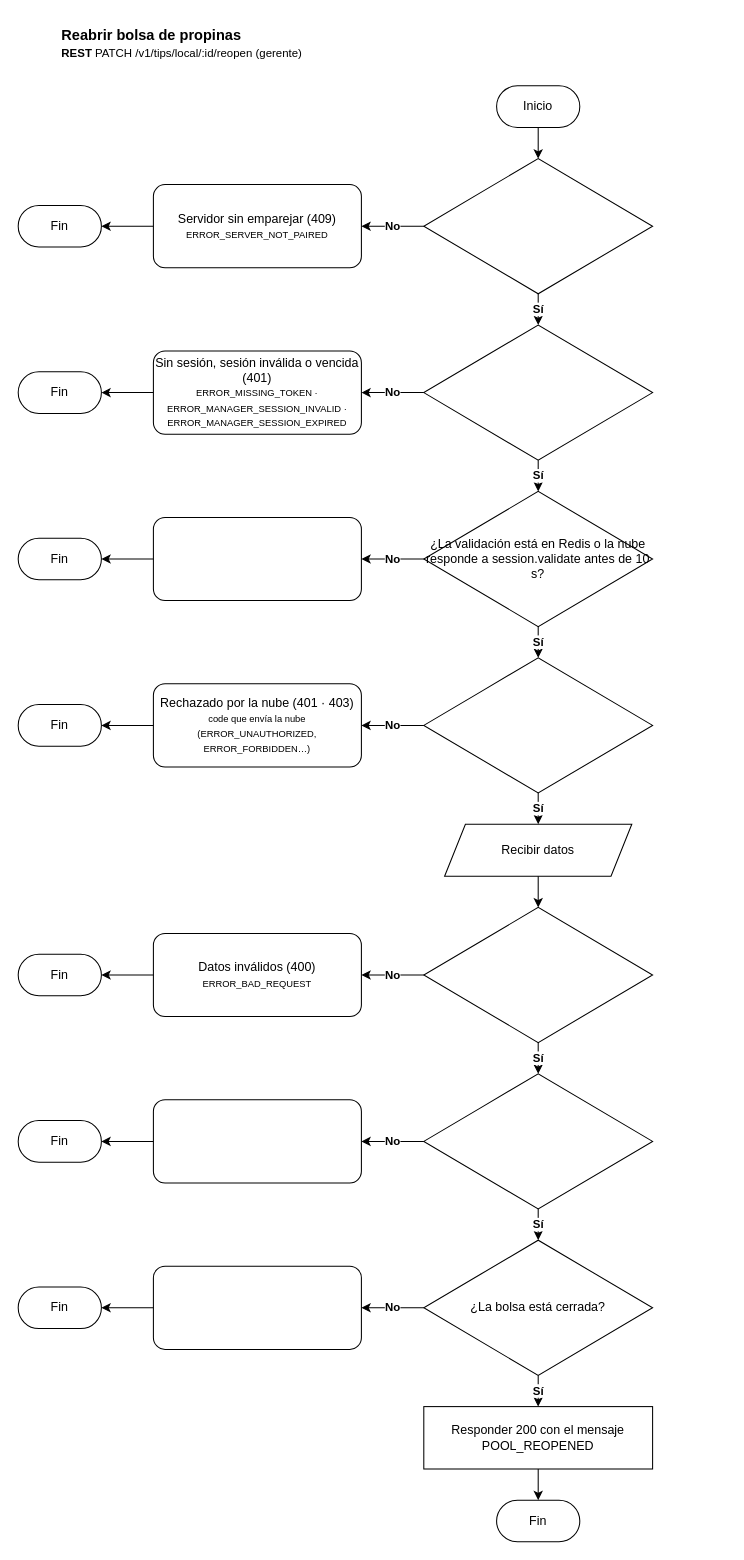
The diagram is 744 pixels wide and 1560 high, and some of its shapes have lost their labels. The centre of each missing label's shape, as x and y in pixels:
La bolsa de propinas no está cerrada (409) ERROR_TIP_POOL_NOT_CLOSED: pixel 256 1307
La nube no responde (503) ERROR_CLOUD_UNAVAILABLE · ERROR_SERVER_UNLINKED: pixel 256 558
No se encontró la bolsa de propinas (404) ERROR_TIP_POOL_NOT_FOUND: pixel 256 1141
¿El servidor ya se emparejó alguna vez (pairing_status distinto de unpaired)?: pixel 538 226
¿Existe la bolsa de propinas?: pixel 538 1141
¿La nube acepta la sesión del gerente con este servidor?: pixel 538 725
¿Los datos son válidos?: pixel 538 974
¿Trae una sesión de gerente válida (Bearer mss_..., sin 30 min de inactividad)?: pixel 538 392
